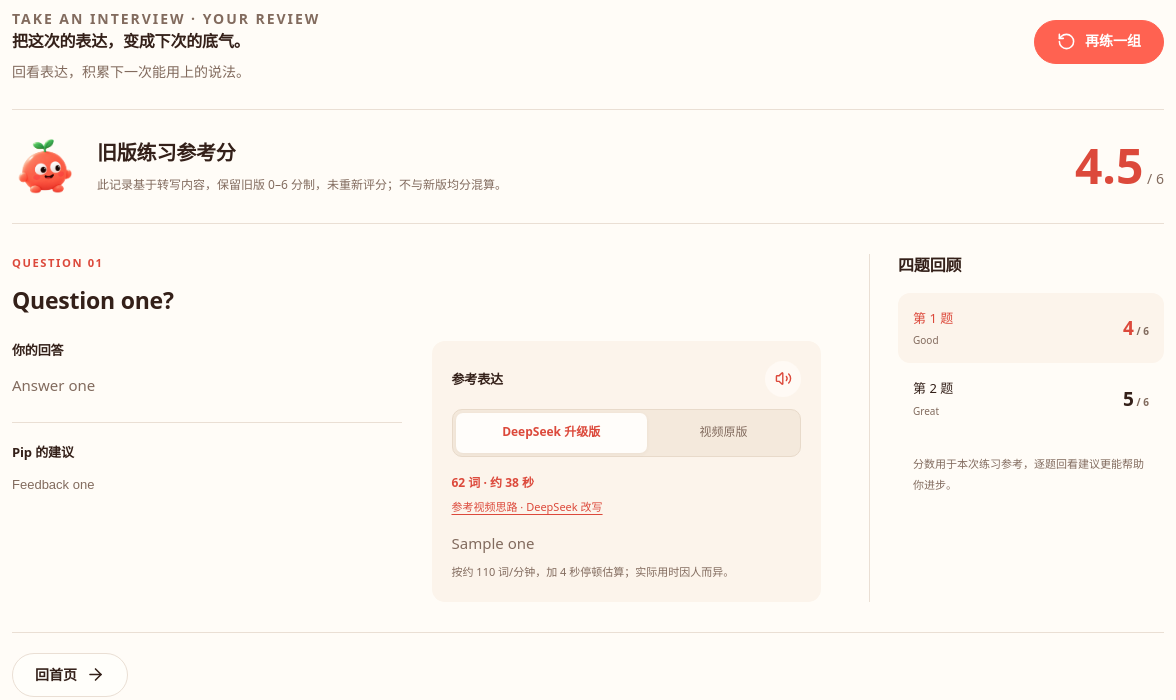
it: switches the question together with its actual answer, feedback and sample
Check: the text "Answer one" is shown, box [12,375,95,395]
Check: the text "62 词 · 约 38 秒" is shown, box [452,474,534,491]
Step 1. Click the button "第 2 题 Great 5 / 6" → [921, 388], box [898,363,1164,434]
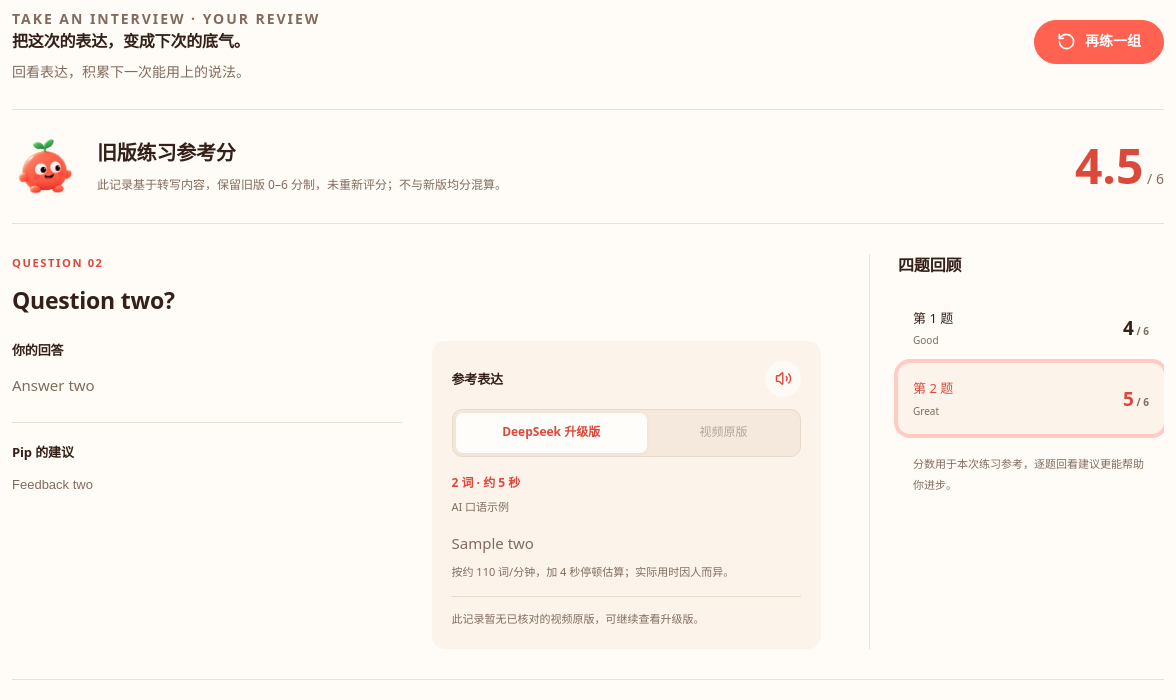
Check: the text "Answer two" is shown, box [12,375,95,395]
Check: the text "Feedback two" is shown, box [12,477,93,492]
Check: the text "Sample two" is shown, box [452,533,534,553]
